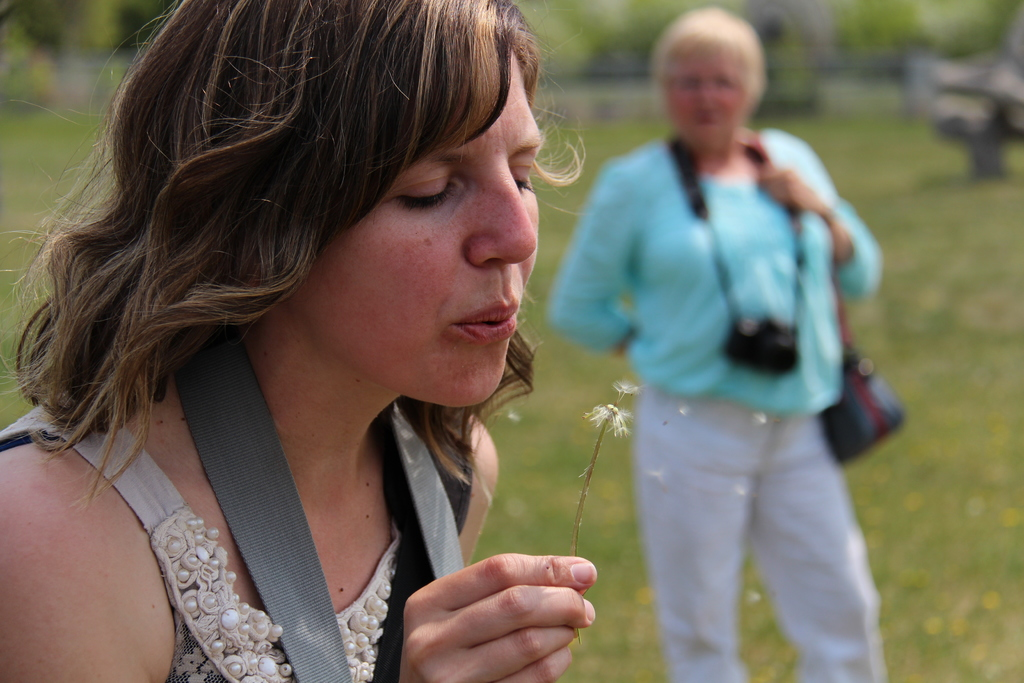Human_hand: (396, 559, 623, 678), (760, 169, 819, 212)
